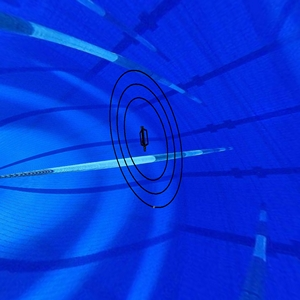circle: (103, 69, 191, 212)
submarine: (134, 124, 157, 158)
